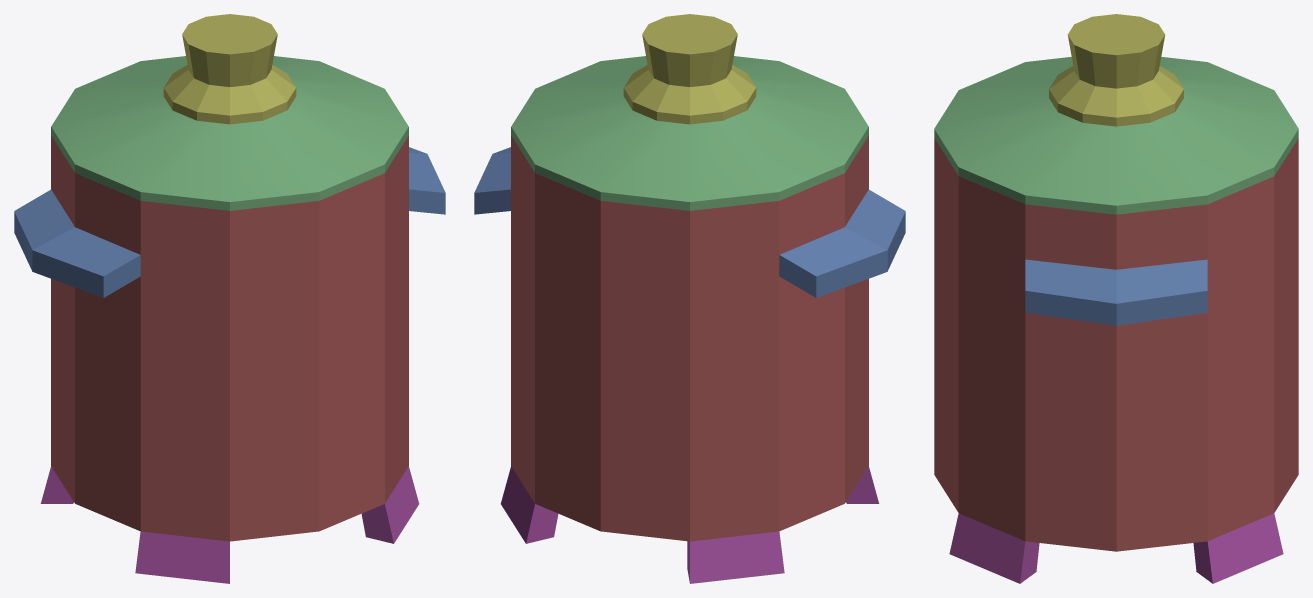
Rendered from Reiskocher_low.fbx.
3 views of the same model, side by side, from view 1: azimuth 30°, elevation 25°; view 2: azimuth 150°, elevation 25°; view 3: azimuth 270°, elevation 25° (orthographic).
Parts seen in each view (by area): view 1: Mesh; view 2: Mesh; view 3: Mesh.
Part boxes in pixels (bbox=[...]): Mesh: bbox=[14, 14, 445, 583]; Mesh: bbox=[474, 14, 905, 583]; Mesh: bbox=[934, 14, 1298, 583].
Size of the model in its own units: 0.3826 by 0.4347 by 0.3.
